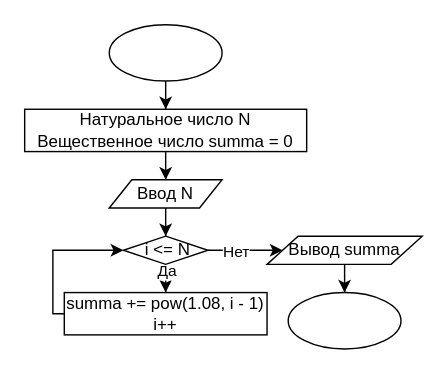
This 447x374 diagram has some shape labels left out. Here are the shapes that lost their labels. From the top down, the box of each, then its label:
(108, 23, 222, 81): Начало
(287, 291, 401, 349): Конец
